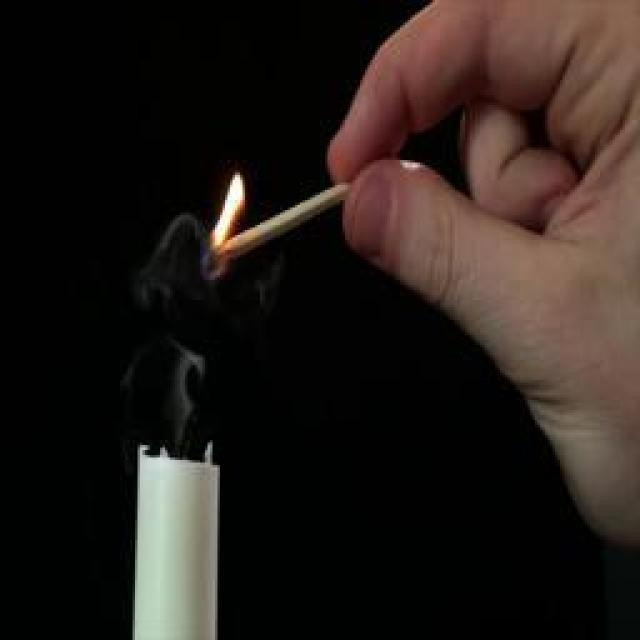Fire: (212, 174, 245, 244)
